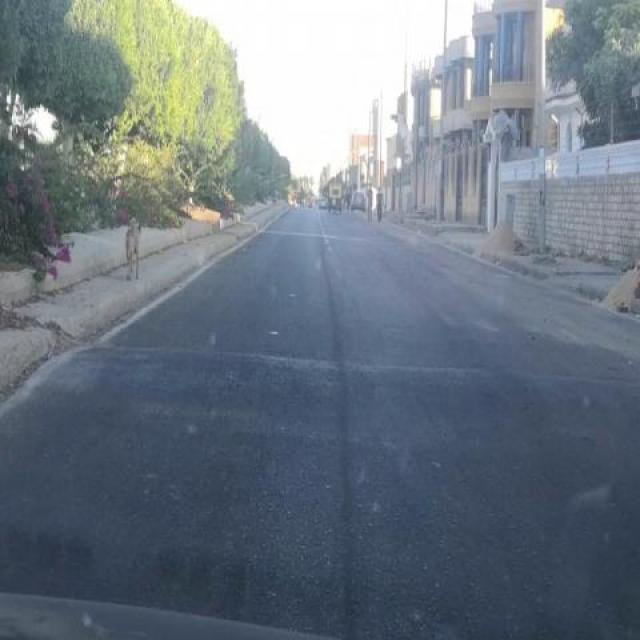Unmarked Bump: (25, 348, 640, 443)
